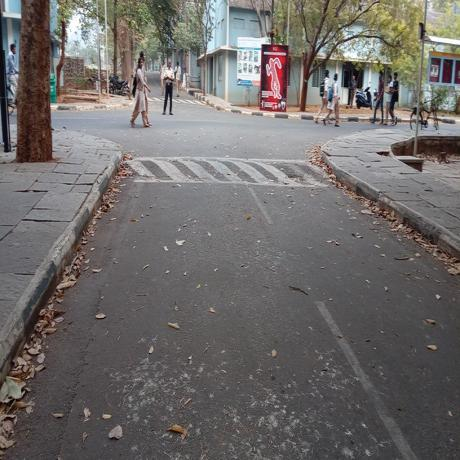Speed Bump: (117, 153, 334, 186)
